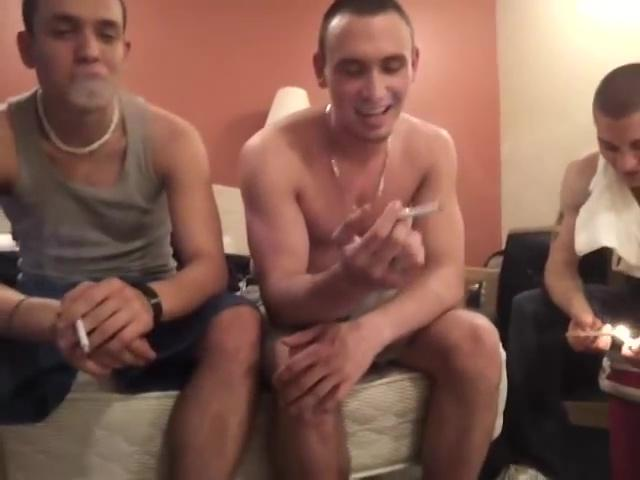cigarette: (395, 199, 448, 226), (71, 314, 91, 354), (561, 327, 619, 339)
